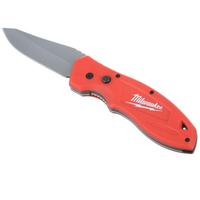knife: (1, 22, 197, 154)
